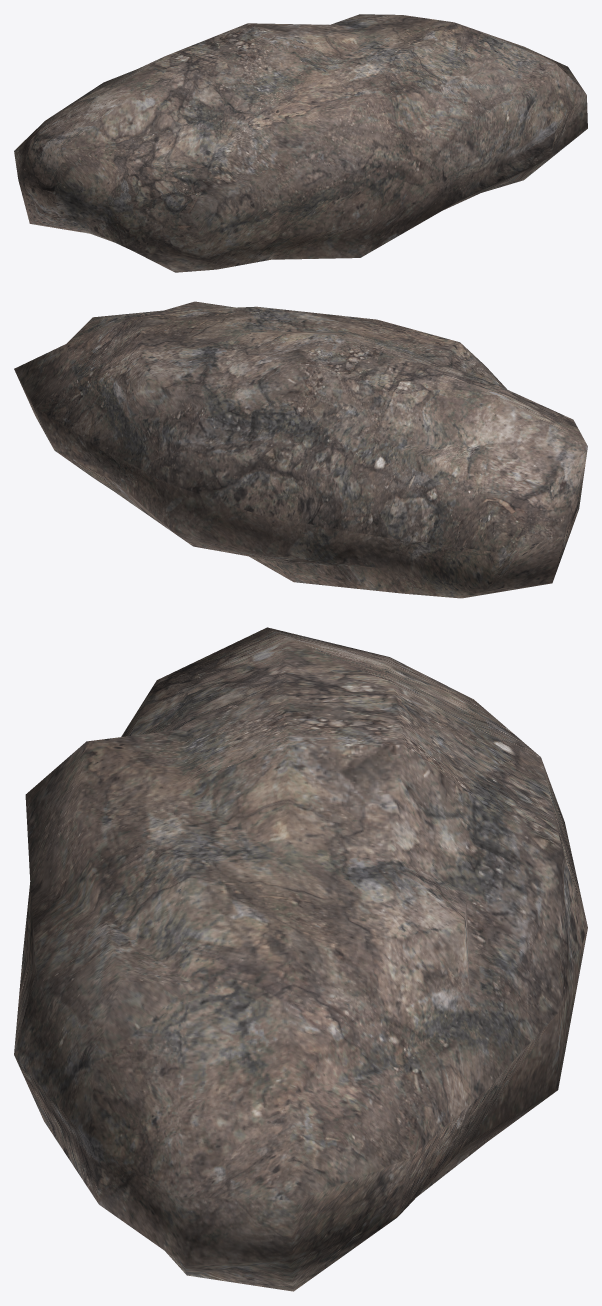
Rendered from Enviro_Rock_B.fbx.
3 views of the same model, one above another, from view 1: azimuth 30°, elevation 25°; view 2: azimuth 150°, elevation 25°; view 3: azimuth 270°, elevation 25° (orthographic). The views are drawn at different scales.
Visible parts, largest first — view 1: Enviro_Rock_B; view 2: Enviro_Rock_B; view 3: Enviro_Rock_B.
Part boxes in pixels (x1,y1,x2,y2): Enviro_Rock_B: (14, 14, 587, 272); Enviro_Rock_B: (14, 301, 587, 598); Enviro_Rock_B: (14, 627, 587, 1291).
Size of the model in its own units: 578 by 215 by 286.
